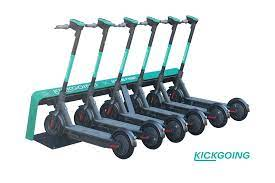kick_body: (67, 128, 109, 147)
kick_handler: (55, 19, 96, 30), (87, 18, 116, 28), (118, 17, 137, 28), (139, 16, 159, 26), (183, 14, 198, 25), (161, 16, 178, 25)
kick_neck: (61, 31, 79, 106), (89, 33, 106, 100)
kick_wheel: (113, 129, 137, 159), (141, 121, 163, 151), (165, 115, 187, 144), (186, 111, 207, 136), (228, 97, 249, 121), (44, 112, 64, 137), (208, 104, 226, 127), (74, 106, 92, 126), (100, 100, 118, 118), (147, 91, 162, 107), (169, 86, 182, 101)
